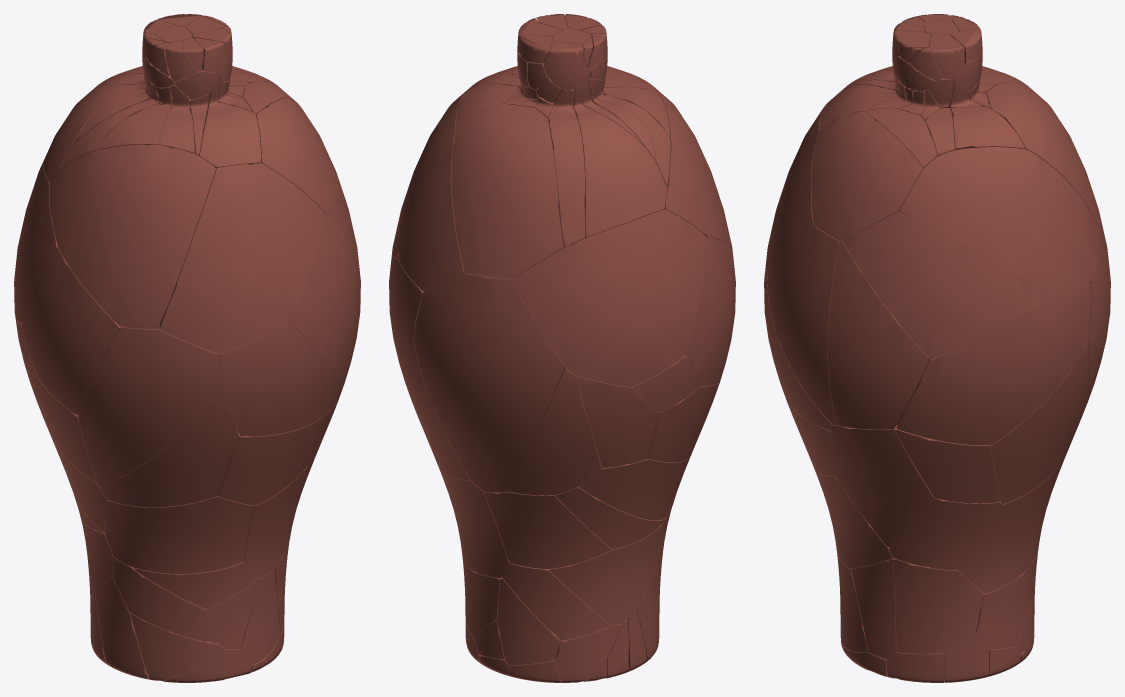
Rendered from Vase.gltf.
3 views of the same model, side by side, from view 1: azimuth 30°, elevation 25°; view 2: azimuth 150°, elevation 25°; view 3: azimuth 270°, elevation 25° (orthographic).
Parts seen in each view (by area): view 1: Vase.001_cell.089, Vase.001_cell.036, Vase.001_cell.001, Vase.001_cell.038, Vase.001_cell.039, Vase.001_cell.090, Vase.001_cell.097, Vase.001_cell.029, Vase.001_cell.091, Vase.001_cell.070, Vase.001_cell.053, Vase.001_cell.015 (+23 smaller); view 2: Vase.001_cell.015, Vase.001_cell.056, Vase.001_cell.092, Vase.001_cell.065, Vase.001_cell.067, Vase.001_cell.004, Vase.001_cell.024, Vase.001_cell.079, Vase.001_cell.094, Vase.001_cell.089, Vase.001_cell.090, Vase.001_cell.048 (+24 smaller); view 3: Vase.001_cell.065, Vase.001_cell.018, Vase.001_cell, Vase.001_cell.060, Vase.001_cell.091, Vase.001_cell.029, Vase.001_cell.073, Vase.001_cell.085, Vase.001_cell.069, Vase.001_cell.025, Vase.001_cell.092, Vase.001_cell.099 (+23 smaller).
Boxes of the visible parts, box(x1,y1,x2,y2) form: Vase.001_cell.089: box(49, 144, 215, 329); Vase.001_cell.036: box(159, 163, 326, 353); Vase.001_cell.001: box(78, 326, 223, 486); Vase.001_cell.038: box(218, 323, 342, 436); Vase.001_cell.039: box(105, 496, 254, 573); Vase.001_cell.090: box(21, 248, 121, 415); Vase.001_cell.097: box(100, 392, 239, 507); Vase.001_cell.029: box(289, 202, 358, 387); Vase.001_cell.091: box(256, 97, 339, 213); Vase.001_cell.070: box(217, 400, 337, 505); Vase.001_cell.053: box(113, 557, 218, 643); Vase.001_cell.015: box(14, 161, 58, 322); Vase.001_cell.015: box(511, 209, 706, 387); Vase.001_cell.056: box(414, 273, 564, 492); Vase.001_cell.092: box(451, 103, 563, 279); Vase.001_cell.065: box(398, 90, 467, 291); Vase.001_cell.067: box(573, 94, 666, 238); Vase.001_cell.004: box(484, 489, 612, 568); Vase.001_cell.024: box(510, 366, 601, 495); Vase.001_cell.079: box(548, 519, 665, 625); Vase.001_cell.094: box(575, 375, 658, 468); Vase.001_cell.089: box(578, 87, 732, 248); Vase.001_cell.090: box(686, 236, 735, 385); Vase.001_cell.048: box(579, 437, 690, 520); Vase.001_cell.065: box(900, 147, 1098, 294); Vase.001_cell.018: box(896, 282, 1091, 445); Vase.001_cell: box(843, 211, 1052, 359); Vase.001_cell.060: box(827, 241, 929, 429); Vase.001_cell.091: box(811, 111, 923, 241); Vase.001_cell.029: box(767, 226, 841, 425); Vase.001_cell.073: box(831, 425, 933, 547); Vase.001_cell.085: box(892, 558, 983, 653); Vase.001_cell.069: box(990, 342, 1088, 503); Vase.001_cell.025: box(958, 454, 1066, 593); Vase.001_cell.092: box(986, 83, 1099, 226); Vase.001_cell.099: box(889, 497, 1002, 570).
Bounding box in the file's own units: 1.01 × 1.96 × 1.01.
